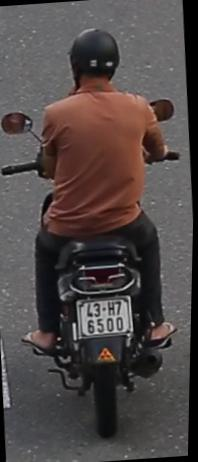LP: (74, 291, 136, 338)
helmet: (63, 23, 127, 99)
